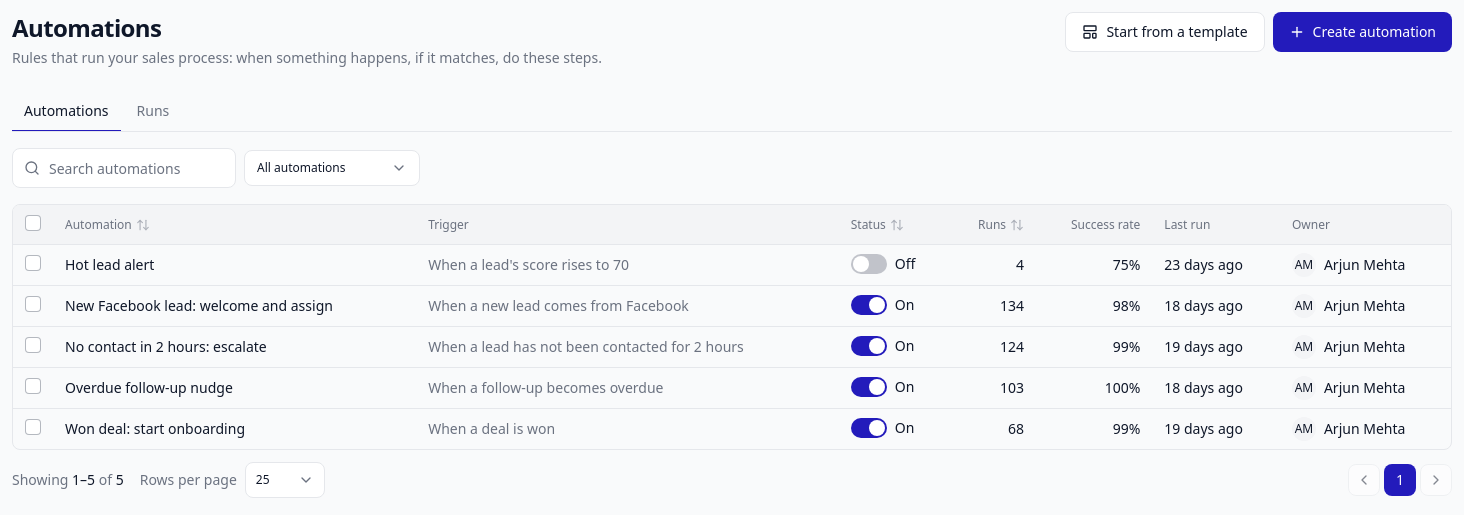
Test: automations list › filters by search and shows an empty state
Check: the link "New Facebook lead: welcome and assign" is shown, box [65,296,333,315]
Type "zzzz-nothing" into the field labelled "Search automations" at (124, 168), box [12,148,236,188]
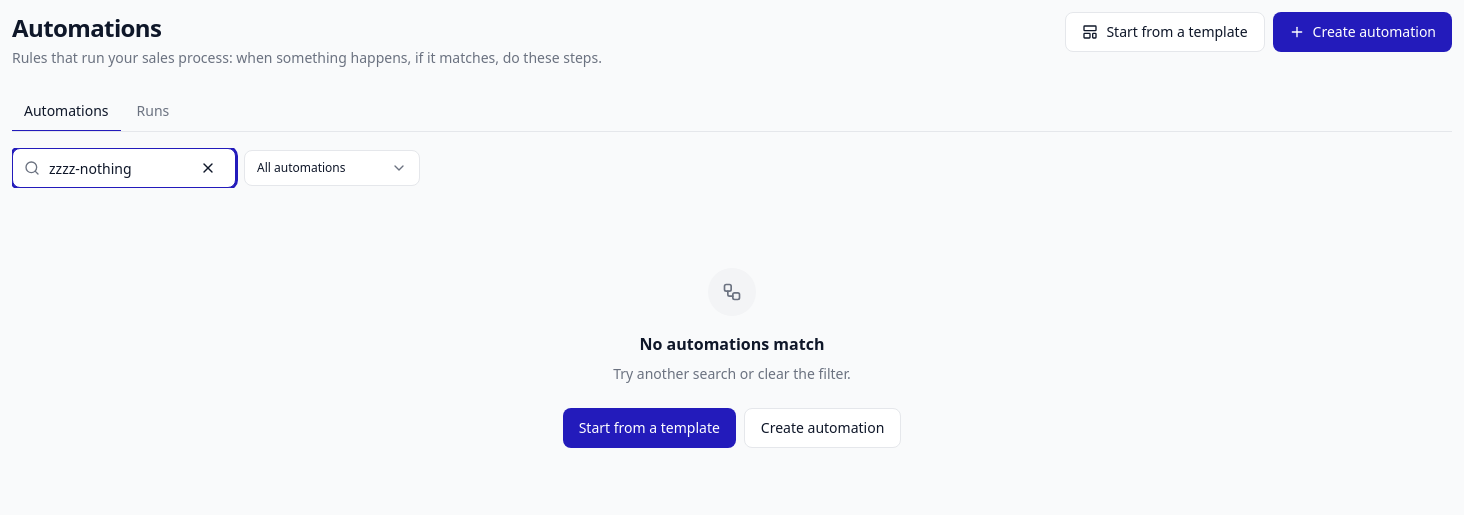
Check: the heading "No automations match" is shown, box [640,332,824,356]
